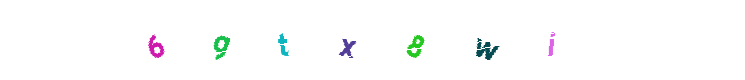6: (236, 0, 316, 80)
8: (333, 0, 413, 80)
G: (243, 0, 323, 80)
I: (445, 0, 525, 80)
T: (278, 0, 358, 80)
W: (336, 0, 416, 80)
X: (319, 0, 399, 80)
